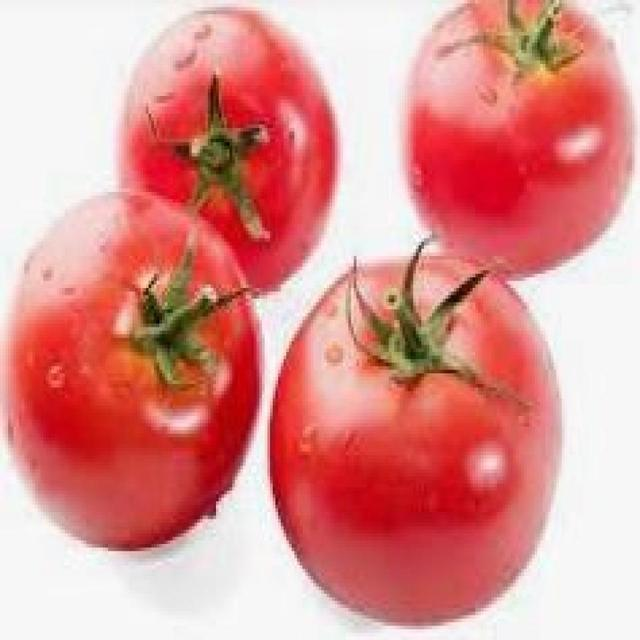Healthy Fruit: (90, 94, 345, 294)
